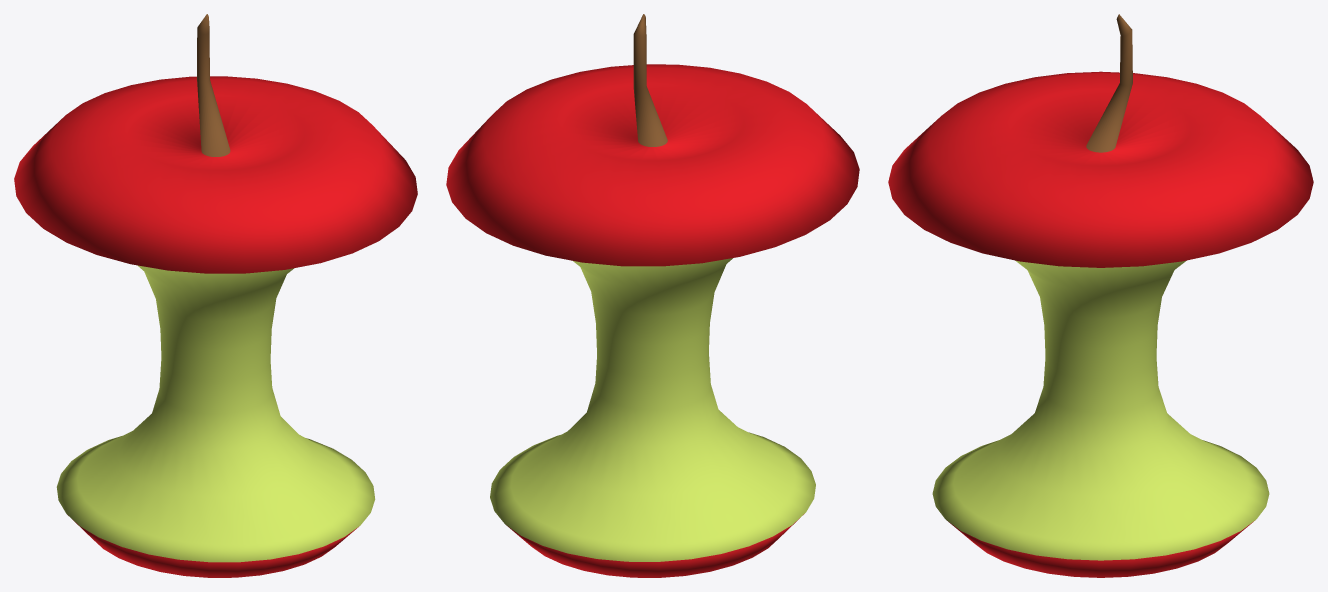
Rendered from Dechet_Pommee.fbx.
The picture shows the model from 3 angles, left to right: view 1: azimuth 30°, elevation 25°; view 2: azimuth 150°, elevation 25°; view 3: azimuth 270°, elevation 25°; orthographic projection. The views are drawn at different scales.
Parts seen in each view (by area): view 1: TrognonPomme; view 2: TrognonPomme; view 3: TrognonPomme.
Part boxes in pixels (x1,y1,x2,y2): TrognonPomme: (14, 14, 417, 577); TrognonPomme: (446, 14, 859, 577); TrognonPomme: (888, 14, 1313, 577).
Size of the model in its own units: 168 by 239 by 177.
